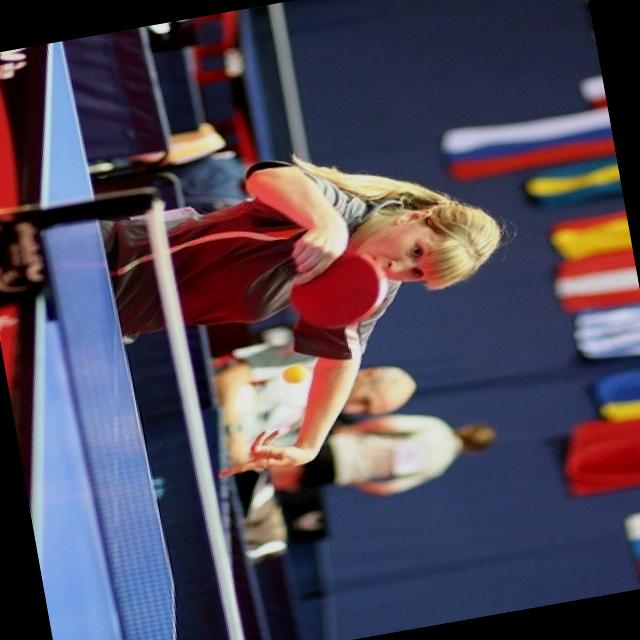TT Net: (27, 179, 254, 640), (248, 0, 325, 176)
TT Racket: (283, 251, 407, 337)
TT Table: (0, 39, 186, 640), (226, 9, 280, 171)
